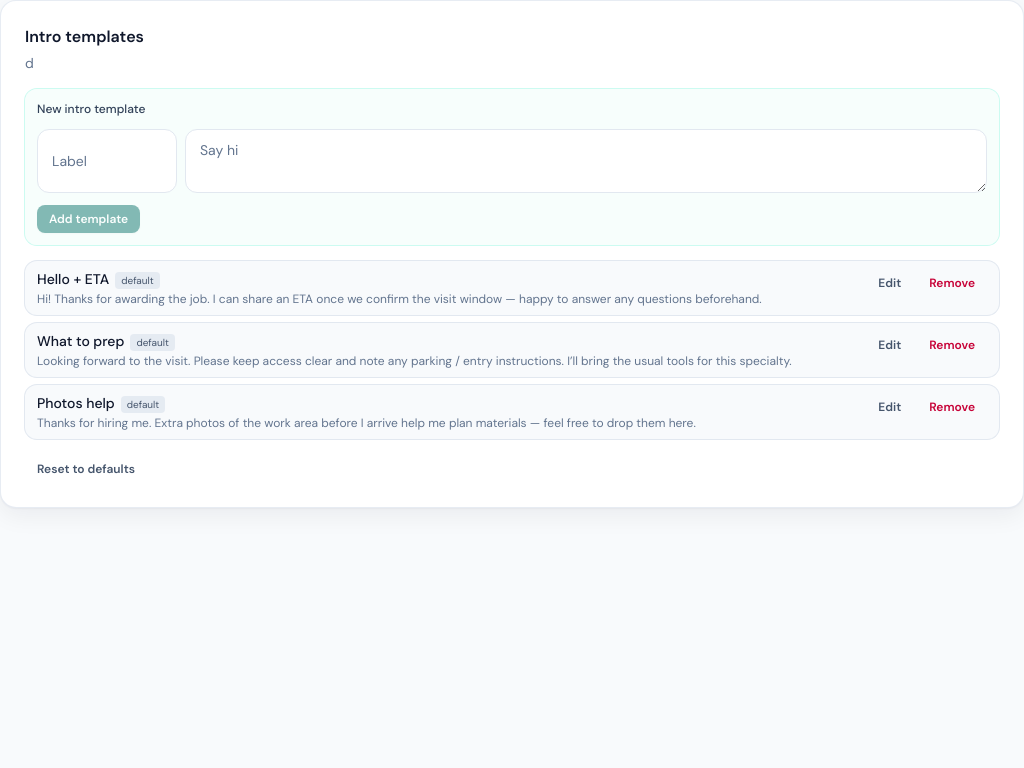
Test case: TemplateEditor › adds a template and saves the whole list to the account
Type "Quick" into the field named "Intro template label" at (107, 161), box [37,129,177,193]
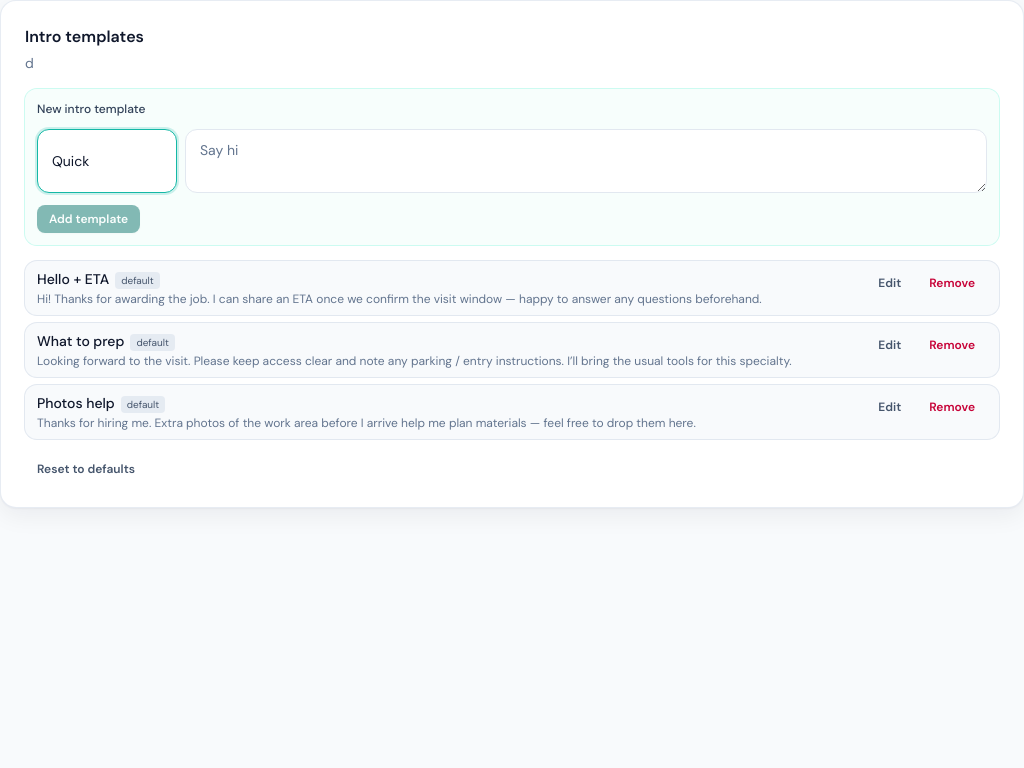
Type "On my way" into the text box named "Intro template body" at (586, 161), box [185,129,987,193]
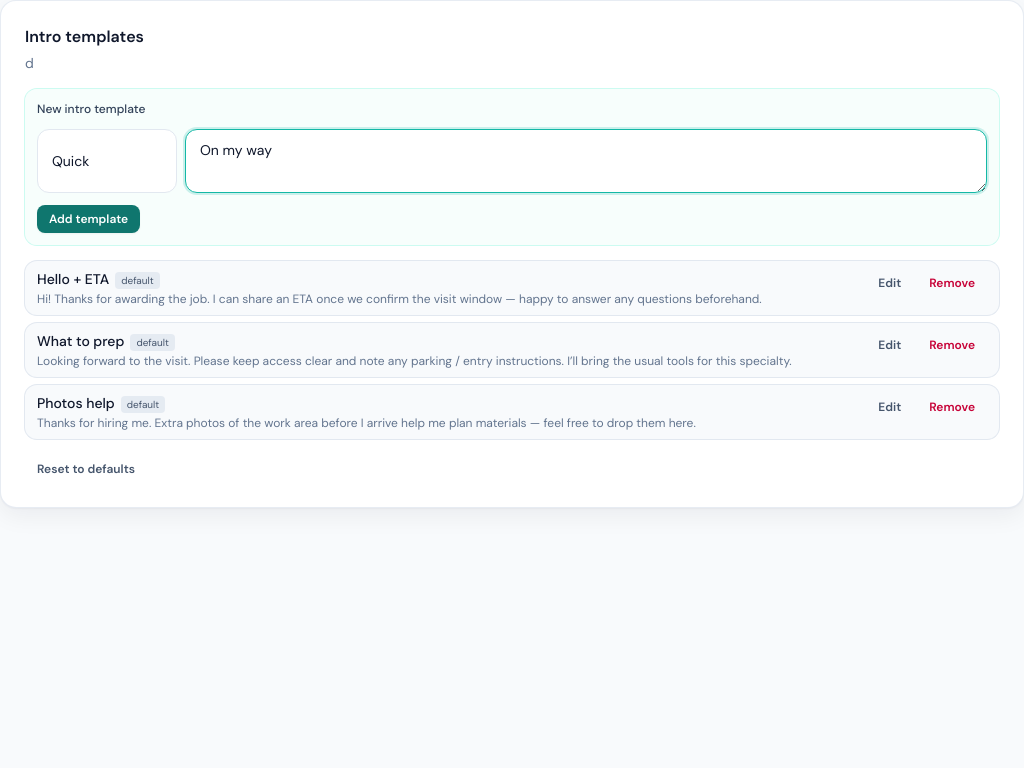
Click the button "Add template" at (89, 219), box [37,205,140,233]
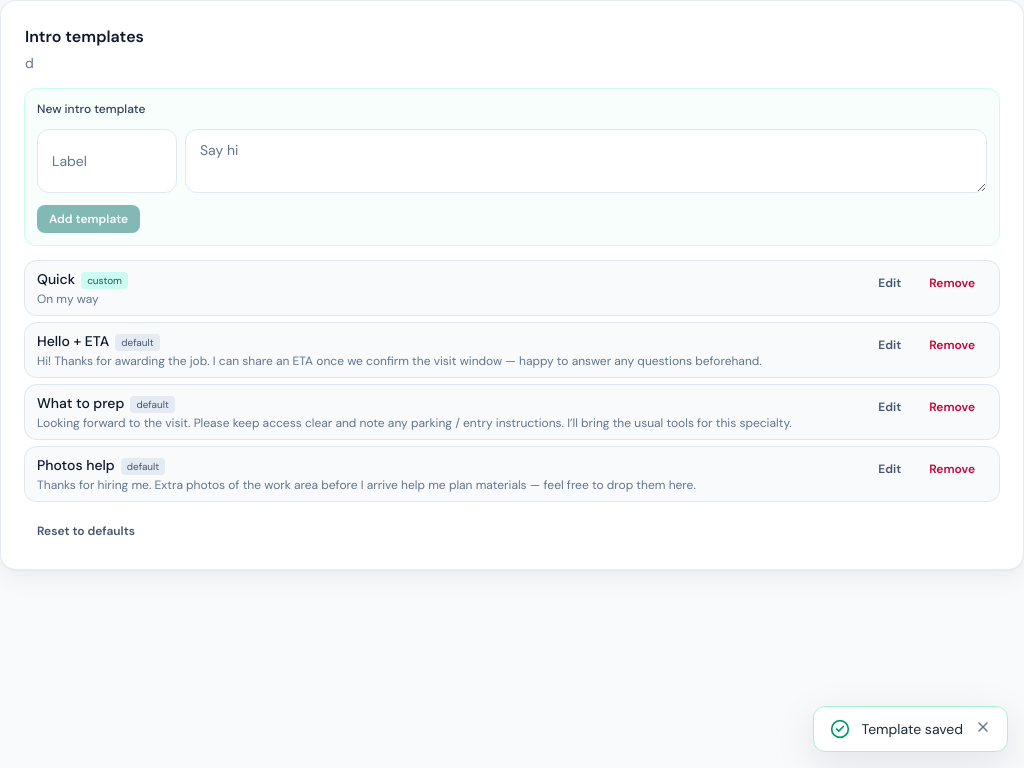
Expected: the text "On my way" is shown, [37,291,99,307]
